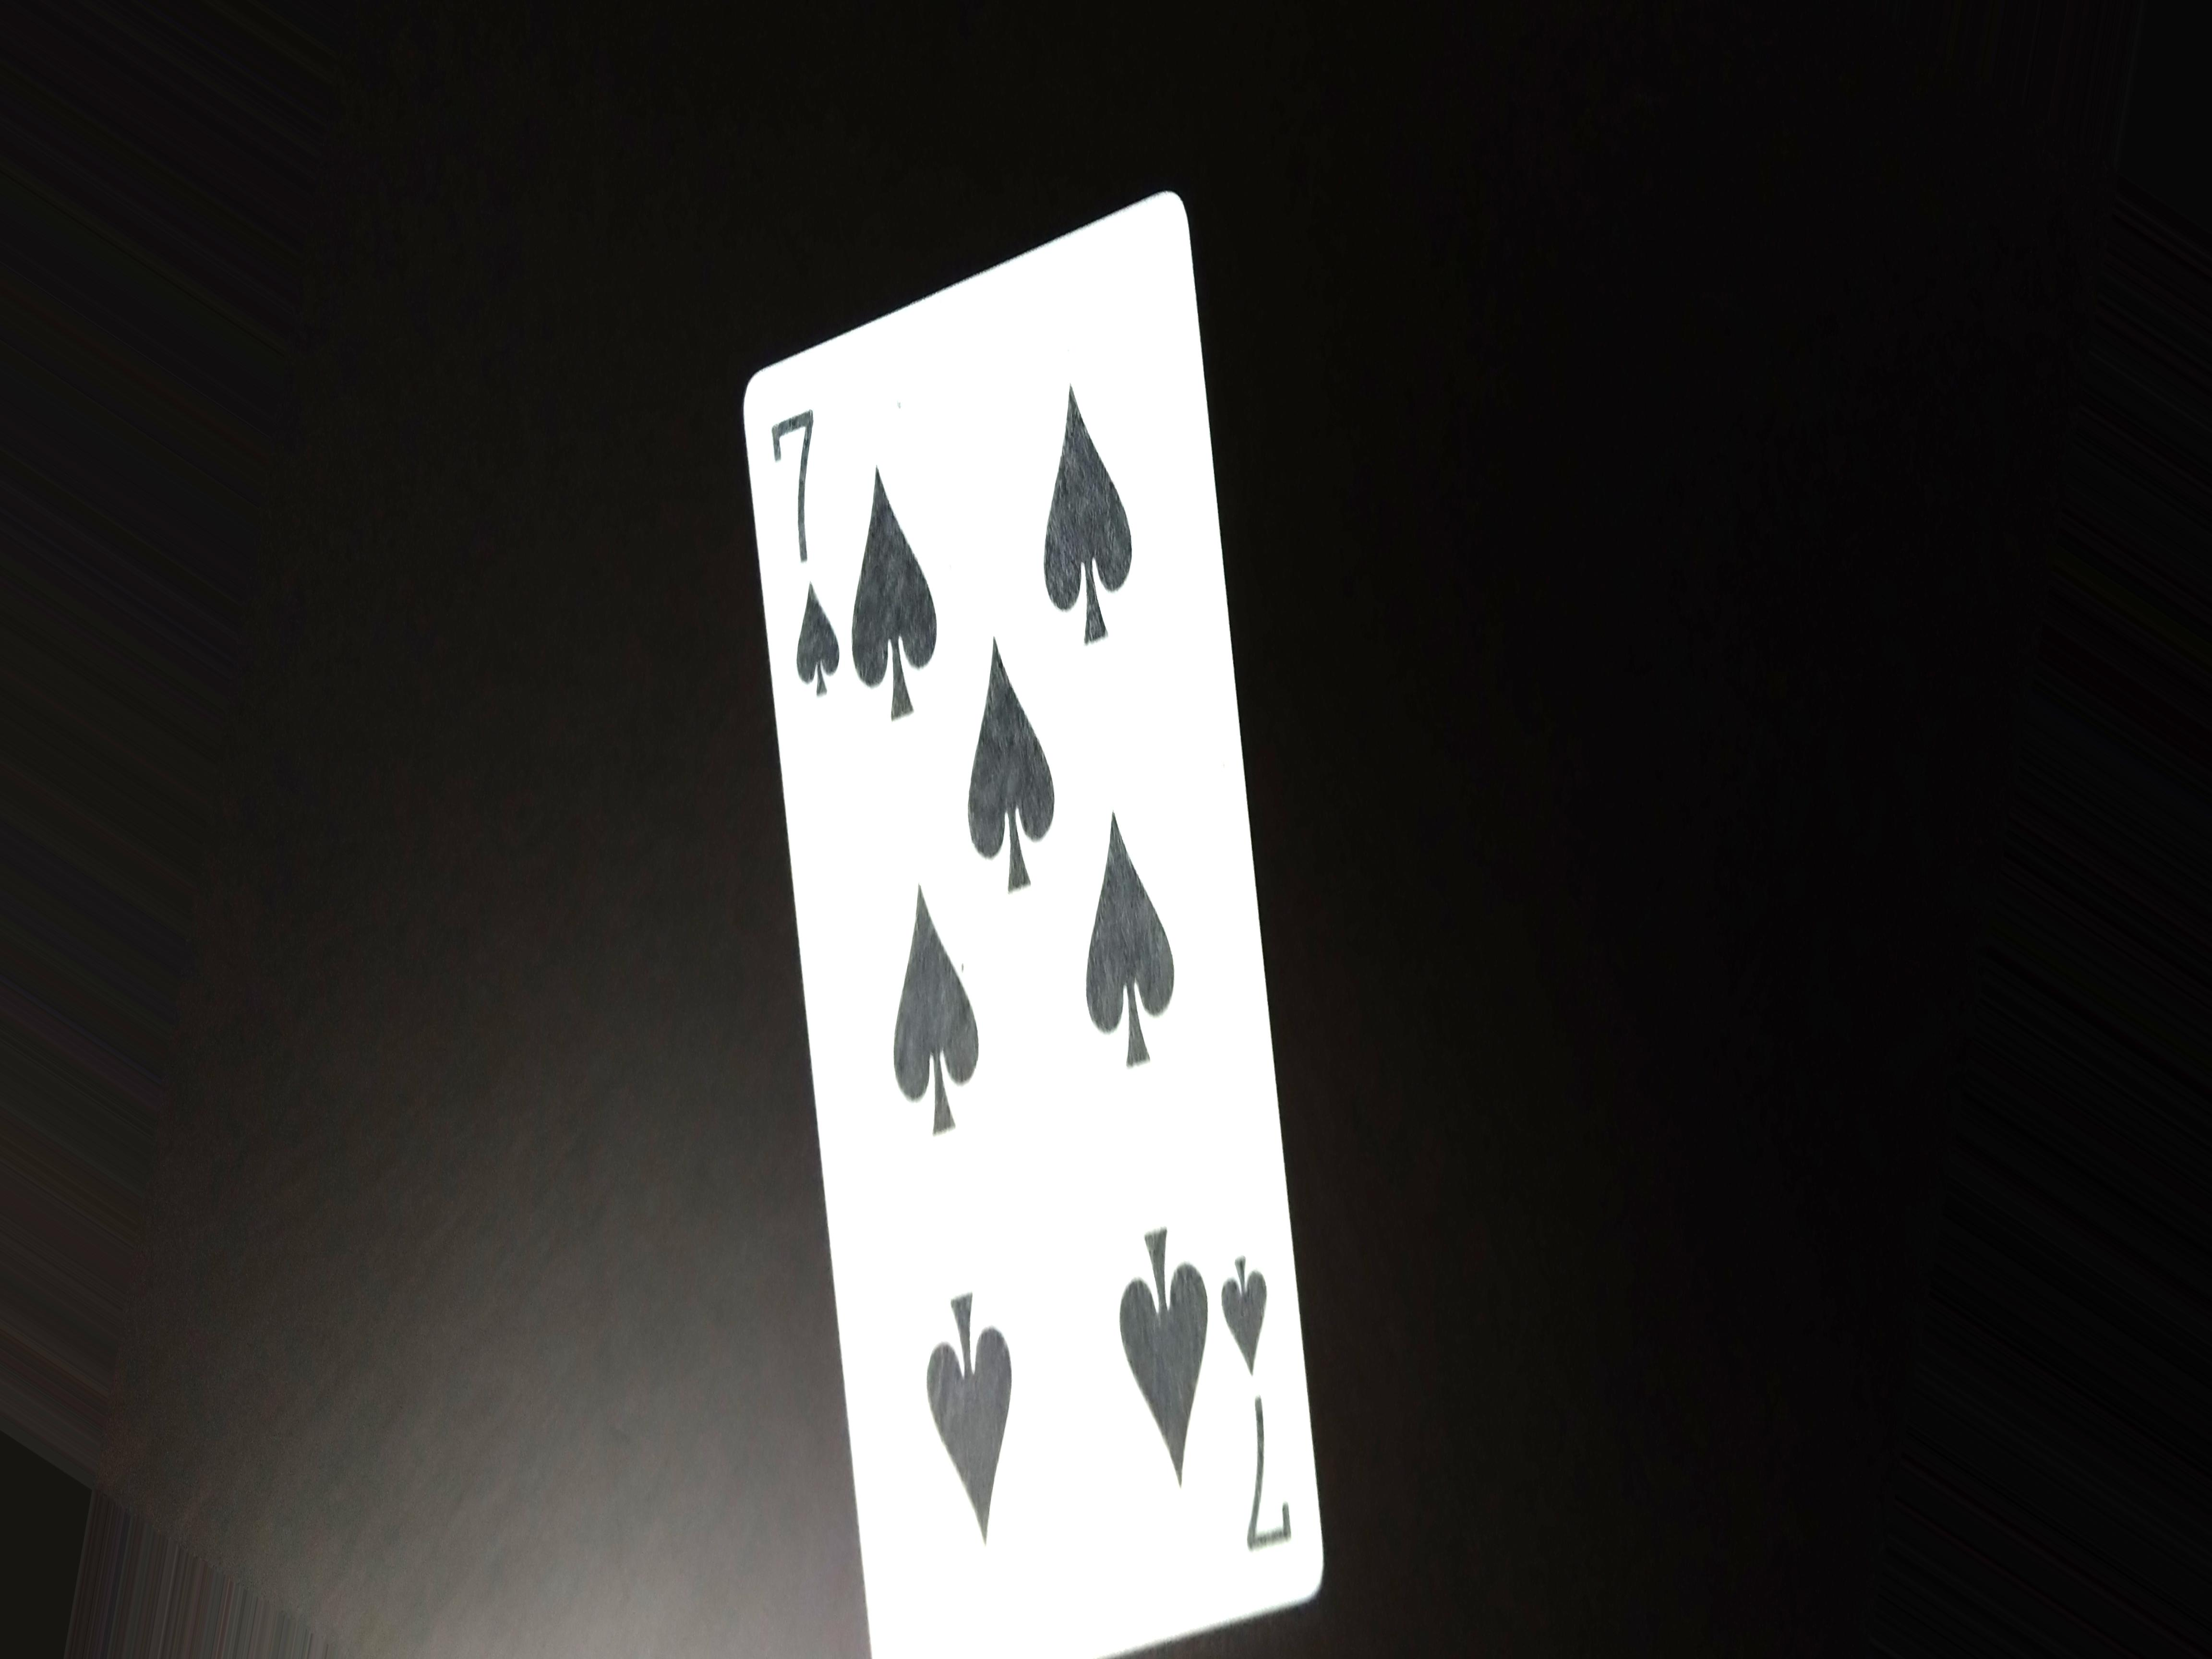7S: (777, 380, 850, 714)
